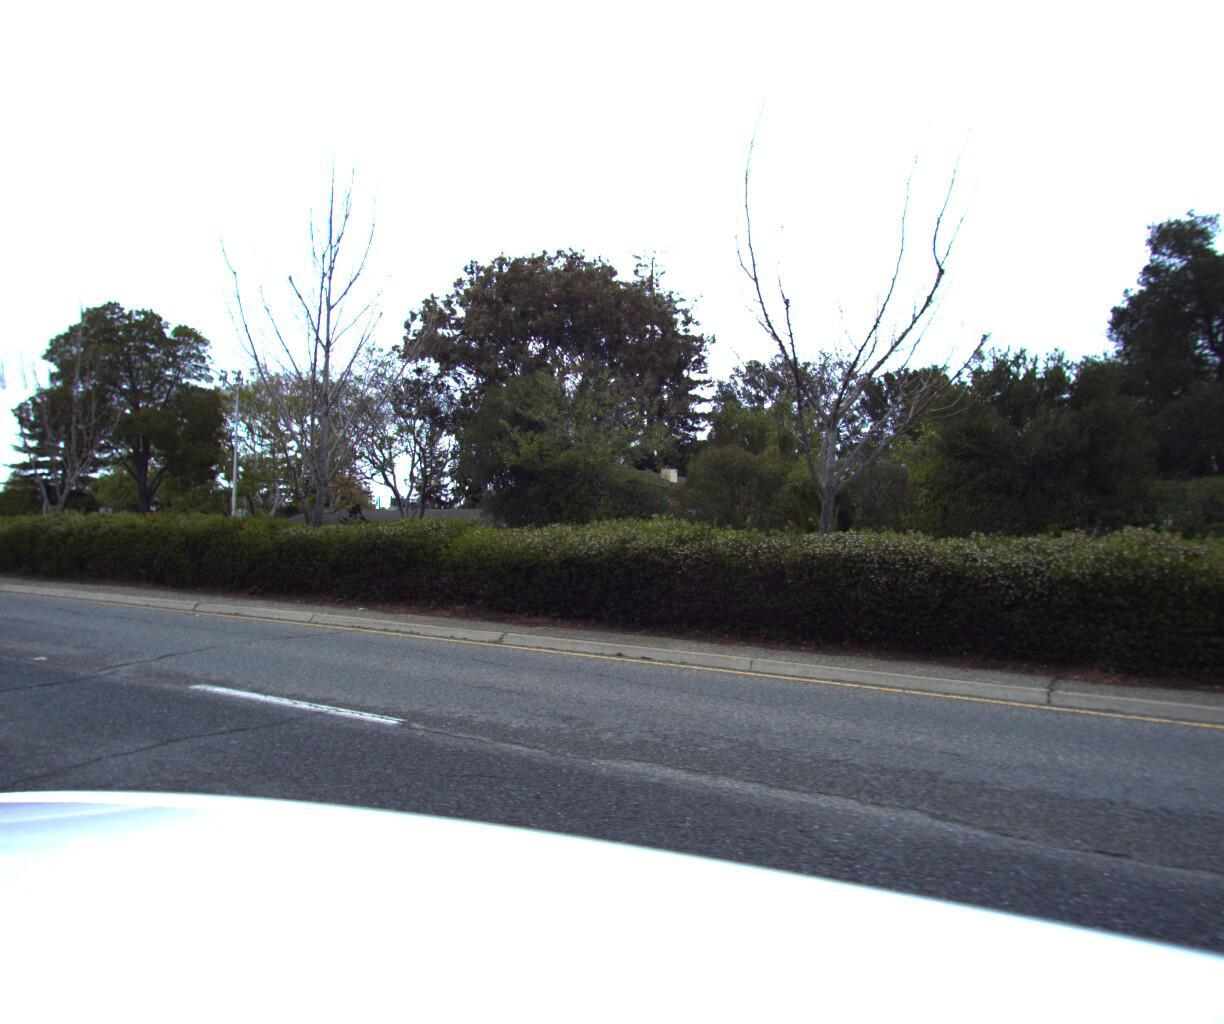car: (0, 505, 27, 559)
